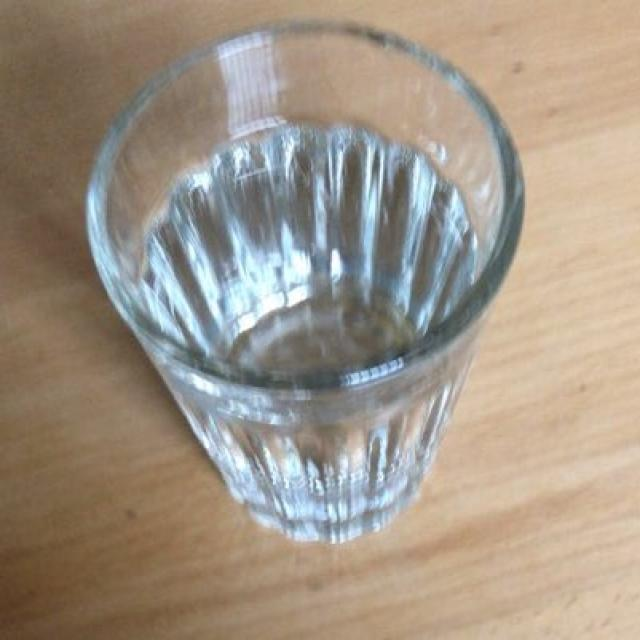water: (138, 114, 475, 377)
